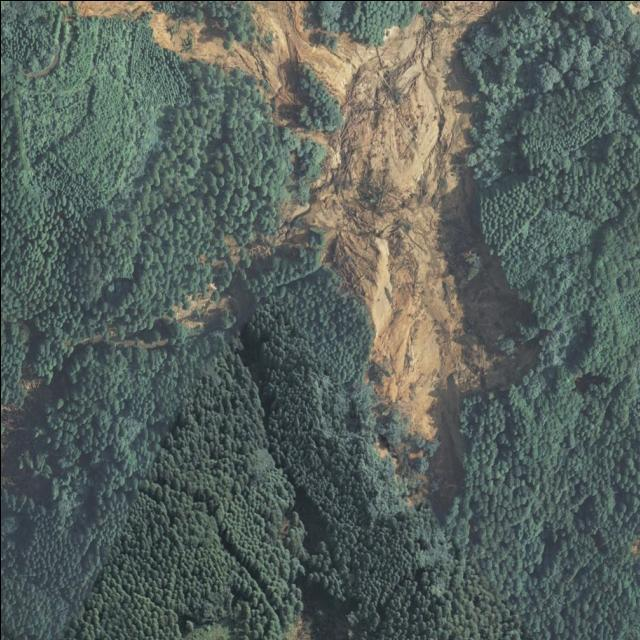landslide: (74, 0, 536, 512)
